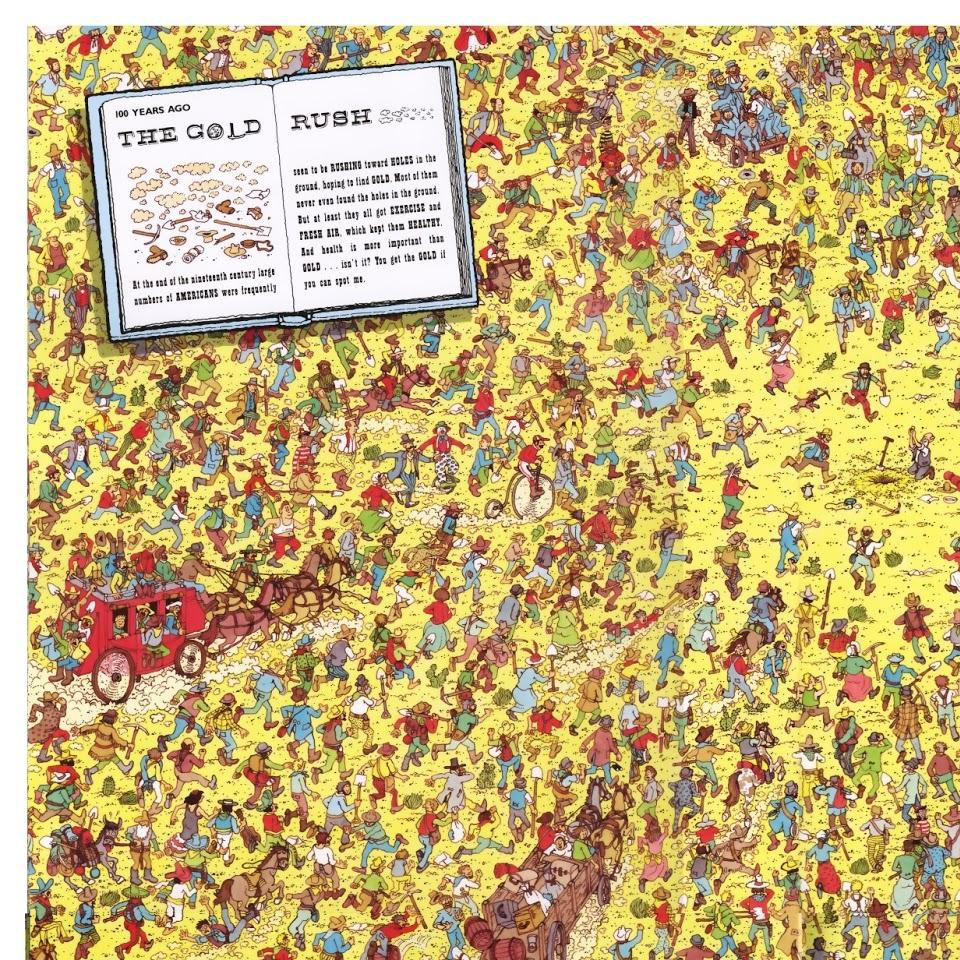waldo: (293, 428, 312, 469)
